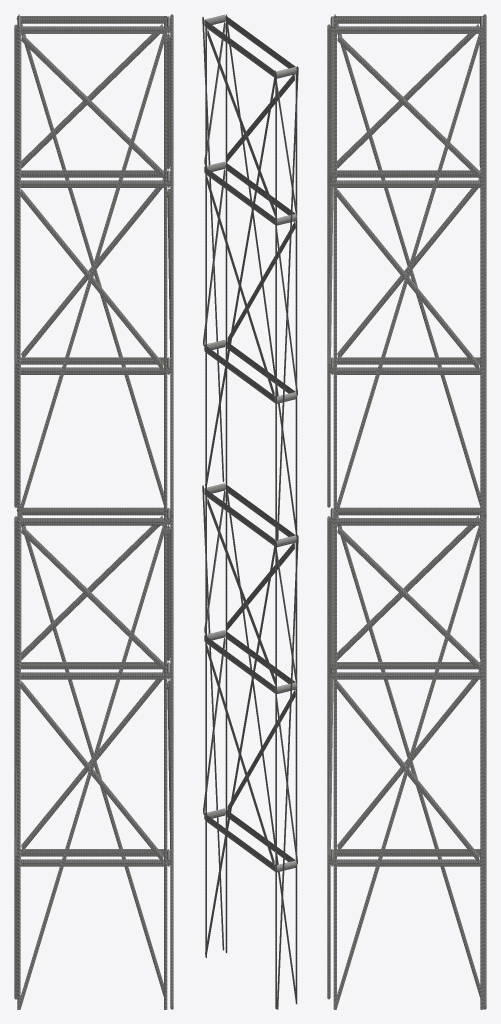
Rendered from AndamioIzqPlataforma.obj.
3 renders of one model, left to right at view 1: azimuth 90°, elevation 25°; view 2: azimuth 210°, elevation 25°; view 3: azimuth 270°, elevation 25°, orthographic. The views are drawn at different scales.
Parts seen in each view (by area): view 1: Object_2; view 2: Object_2; view 3: Object_2.
Part boxes in pixels (<box>): Object_2: <box>14,14,173,1009</box>; Object_2: <box>202,14,298,1009</box>; Object_2: <box>327,14,486,1009</box>.
Size of the model in its own units: 0.1166 by 4.88 by 0.7161.
